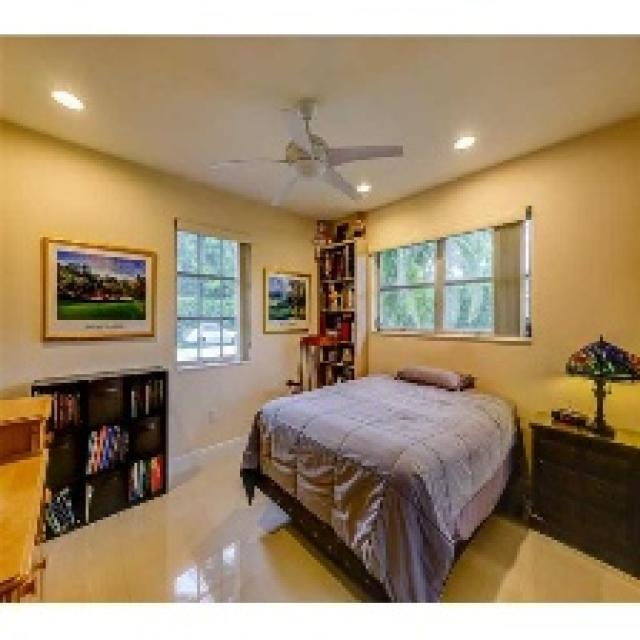Bed: (240, 366, 523, 600)
